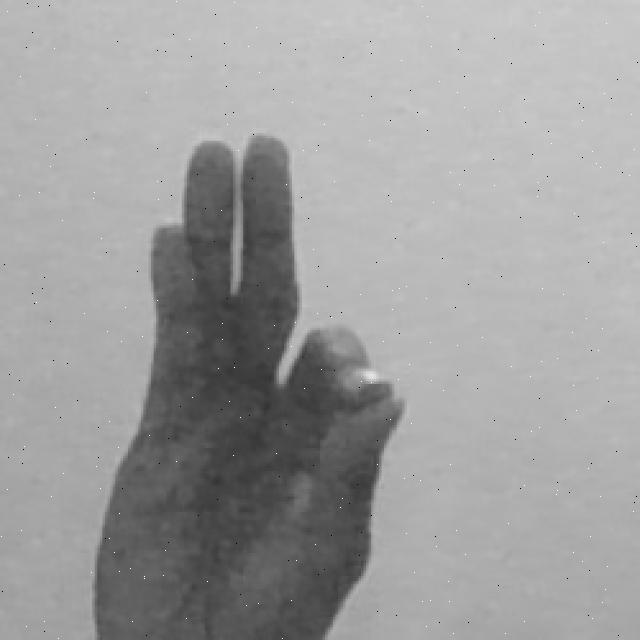F: (90, 125, 407, 640)
